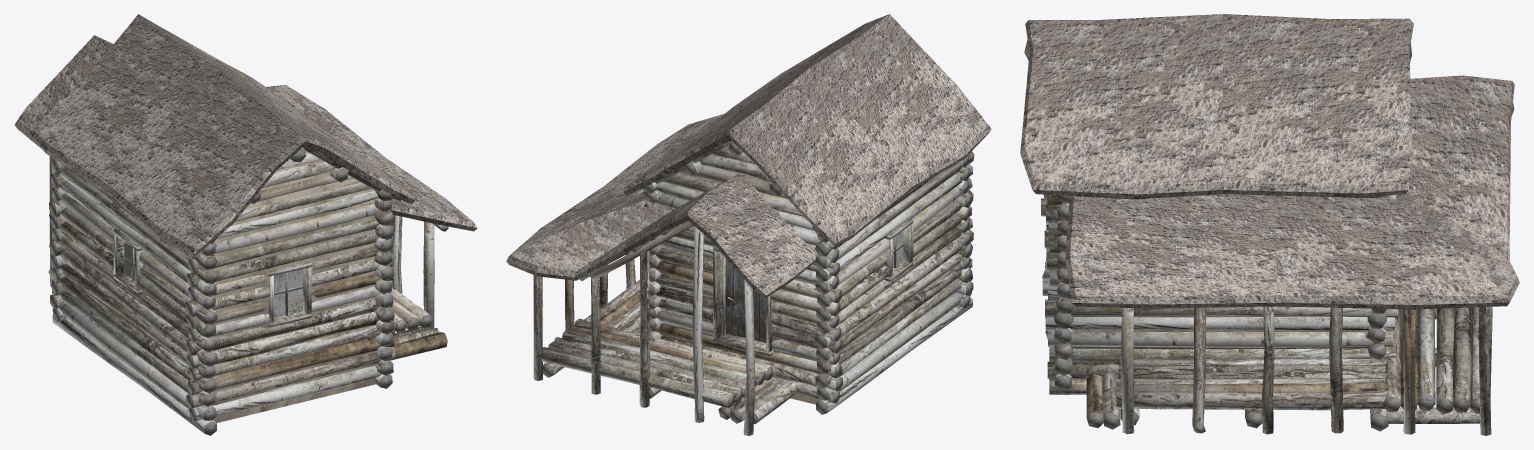
File: woodHouse1.fbx
3 views of the same model, side by side, from view 1: azimuth 30°, elevation 25°; view 2: azimuth 150°, elevation 25°; view 3: azimuth 270°, elevation 25° (orthographic). The views are drawn at different scales.
Parts seen in each view (by area): view 1: base, roof, steps; view 2: roof, base, steps, door; view 3: roof, base, steps.
Boxes of the visible parts, bbox=[...] form: base: bbox=[49, 147, 434, 435]; roof: bbox=[14, 14, 477, 257]; steps: bbox=[48, 266, 447, 360]; roof: bbox=[506, 14, 991, 298]; base: bbox=[533, 141, 974, 435]; steps: bbox=[540, 279, 796, 424]; door: bbox=[725, 258, 766, 342]; roof: bbox=[1020, 14, 1519, 309]; base: bbox=[1041, 194, 1492, 435]; steps: bbox=[1086, 307, 1479, 431].
Size of the model in its own units: 10.39 by 9.26 by 12.67.
